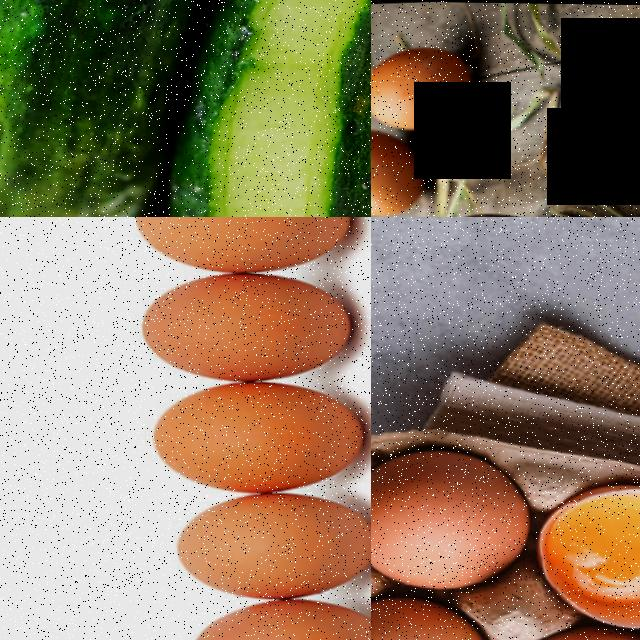cucumber: (0, 0, 163, 217), (209, 0, 371, 217)
egg_: (137, 371, 370, 497), (123, 264, 360, 385), (158, 485, 371, 603), (371, 442, 530, 594), (119, 217, 362, 277), (529, 490, 640, 606), (170, 590, 371, 640), (371, 40, 473, 130), (371, 591, 493, 640), (371, 126, 420, 217)
